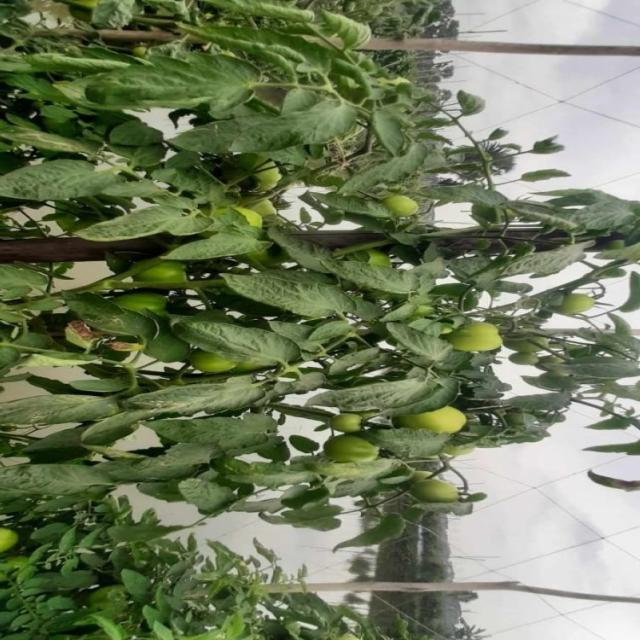tomato: (131, 253, 207, 312), (365, 176, 430, 231), (402, 393, 469, 442), (452, 310, 506, 361), (189, 346, 237, 386), (417, 471, 467, 509), (223, 195, 264, 241), (320, 409, 369, 445), (117, 285, 170, 316), (563, 278, 587, 322)
